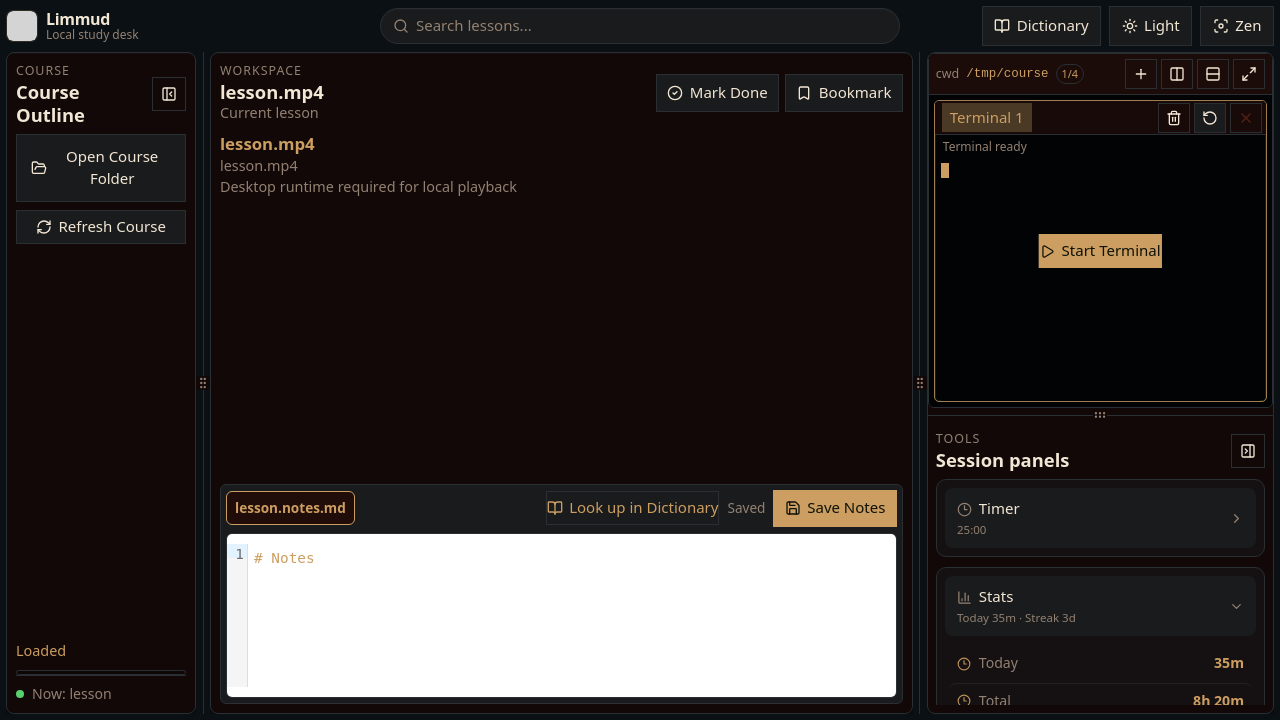
Test: exits zen mode with Escape
Click the button with aria-label "Zen Mode" at point(1237, 26), box [1200, 6, 1274, 46]
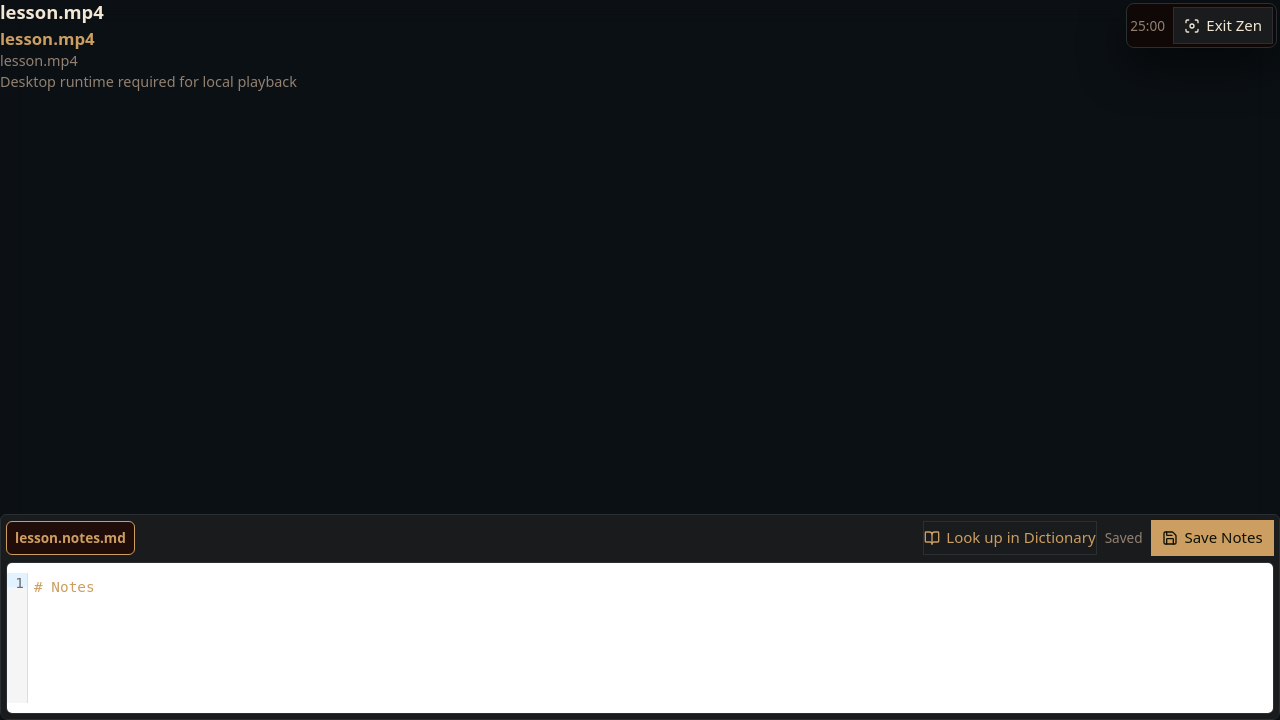
Check: the button "Exit Zen" is shown, box [1173, 7, 1273, 44]
Press Escape
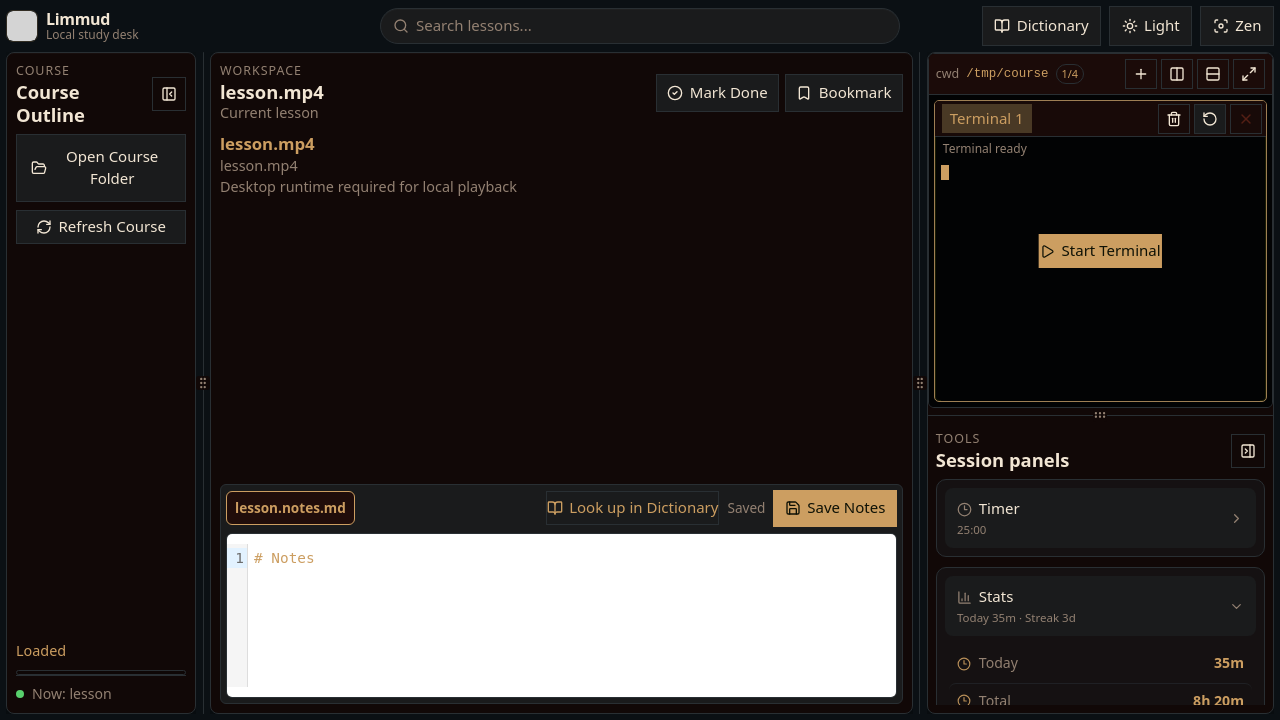
Check: the button "Exit Zen" is gone
Check: the heading "Limmud" is shown, box [46, 10, 110, 30]
